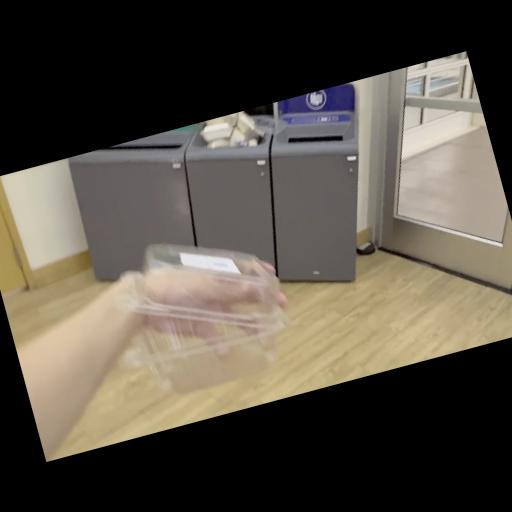small_plastic_container: (98, 214, 300, 406)
